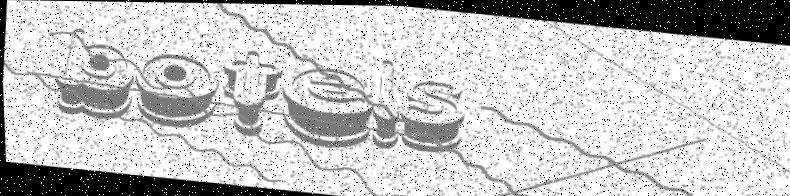b: (52, 25, 140, 125)
e: (277, 62, 377, 151)
l: (367, 56, 405, 148)
o: (132, 51, 220, 132)
s: (394, 76, 467, 155)
t: (214, 46, 286, 139)
